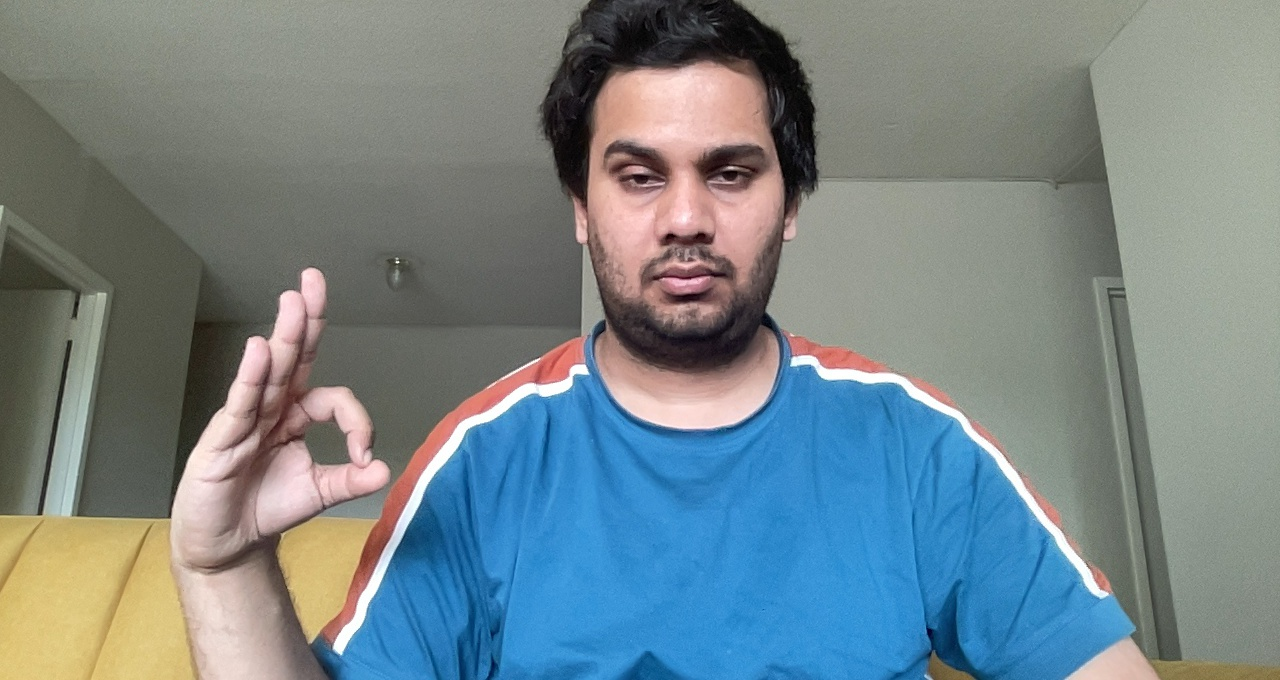ok: (173, 260, 401, 537)
